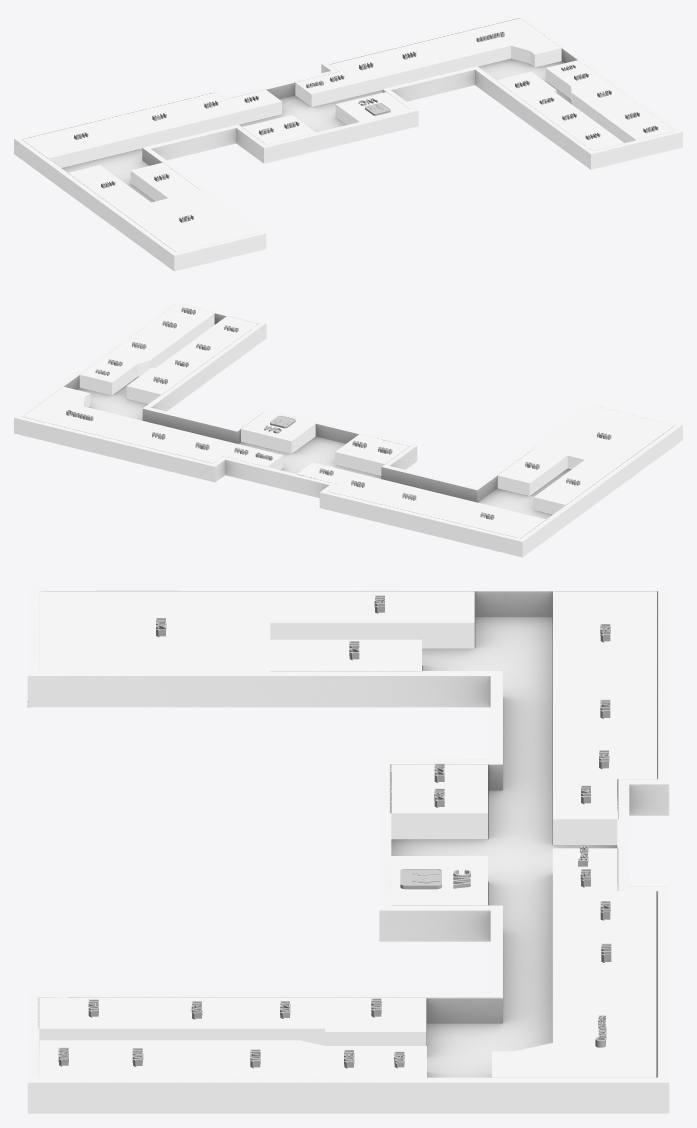
Rendered from BestOpt2.glb.
The picture shows the model from 3 angles, top to bottom: view 1: azimuth 30°, elevation 25°; view 2: azimuth 150°, elevation 25°; view 3: azimuth 270°, elevation 25°; orthographic projection. The views are drawn at different scales.
Visible parts, largest first — view 1: Foundation, 120L, Kitchen, 118L, 117L, 112L, 107L, 119L, 121L, 111L, 115L, WC (+13 smaller); view 2: Foundation, 120L, Kitchen, 118L, 121L, WC, 119L, 117L, 107L, 101L, 112L, 106L (+12 smaller); view 3: Foundation, 120L, Kitchen, 119L, 118L, 117L, 107L, 101L, 123L, 112L, 121L, 104L (+14 smaller).
Part boxes in pixels (bbox=[...]): Foundation: bbox=[14, 14, 682, 271]; 120L: bbox=[119, 190, 258, 252]; Kitchen: bbox=[420, 18, 561, 73]; 118L: bbox=[22, 117, 138, 167]; 117L: bbox=[113, 100, 207, 149]; 112L: bbox=[330, 53, 402, 96]; 107L: bbox=[571, 78, 637, 124]; 119L: bbox=[68, 165, 150, 210]; 121L: bbox=[130, 162, 200, 201]; 111L: bbox=[377, 42, 445, 83]; 115L: bbox=[182, 92, 240, 131]; WC: bbox=[335, 92, 409, 124]; Foundation: bbox=[14, 300, 682, 557]; 120L: bbox=[535, 405, 674, 469]; Kitchen: bbox=[22, 386, 148, 441]; 118L: bbox=[430, 497, 545, 538]; 121L: bbox=[497, 448, 567, 496]; WC: bbox=[241, 411, 315, 454]; 119L: bbox=[533, 460, 616, 514]; 117L: bbox=[361, 480, 455, 516]; 107L: bbox=[105, 330, 178, 376]; 101L: bbox=[126, 367, 186, 404]; 112L: bbox=[166, 433, 238, 463]; 106L: bbox=[140, 313, 201, 351]; Foundation: bbox=[27, 586, 669, 1113]; 120L: bbox=[36, 591, 270, 671]; Kitchen: bbox=[492, 978, 656, 1077]; 119L: bbox=[270, 591, 474, 648]; 118L: bbox=[553, 591, 656, 679]; 117L: bbox=[553, 679, 656, 746]; 107L: bbox=[186, 1040, 325, 1077]; 101L: bbox=[325, 997, 426, 1045]; 123L: bbox=[390, 789, 487, 839]; 112L: bbox=[552, 891, 656, 937]; 121L: bbox=[270, 639, 421, 670]; 104L: bbox=[39, 997, 148, 1040].
Size of the model in its own units: 0.4299 by 0.0157 by 0.2348.
Materials: 55 (1 with a texture image).
